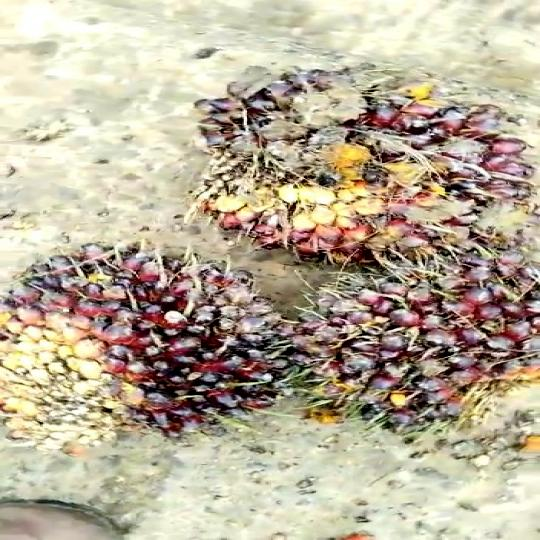kurang masak: (209, 42, 540, 264), (7, 235, 305, 447), (268, 246, 540, 473)
